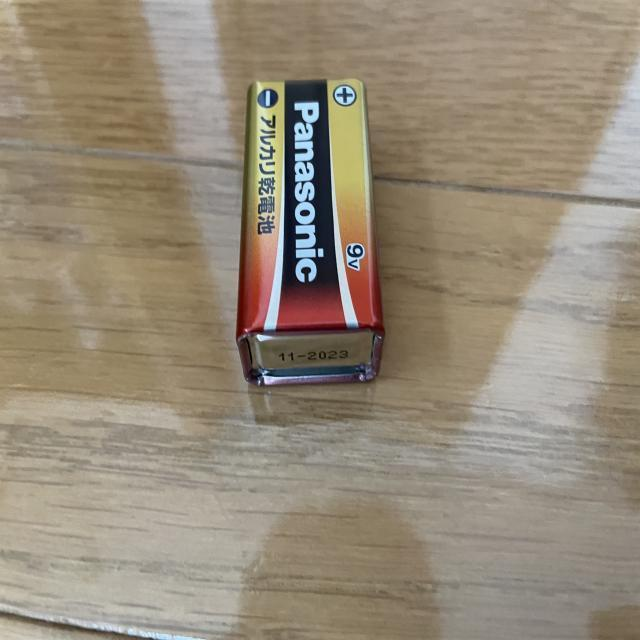9V: (235, 80, 387, 388)
